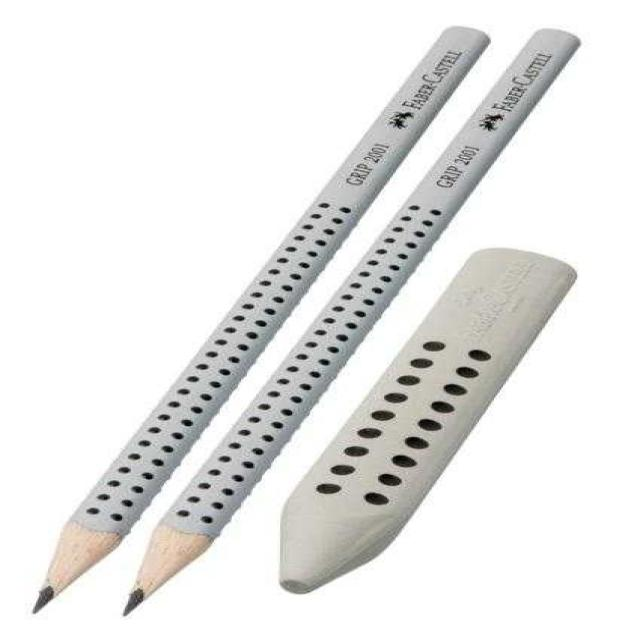pencil: (76, 19, 622, 637), (0, 10, 525, 639)
